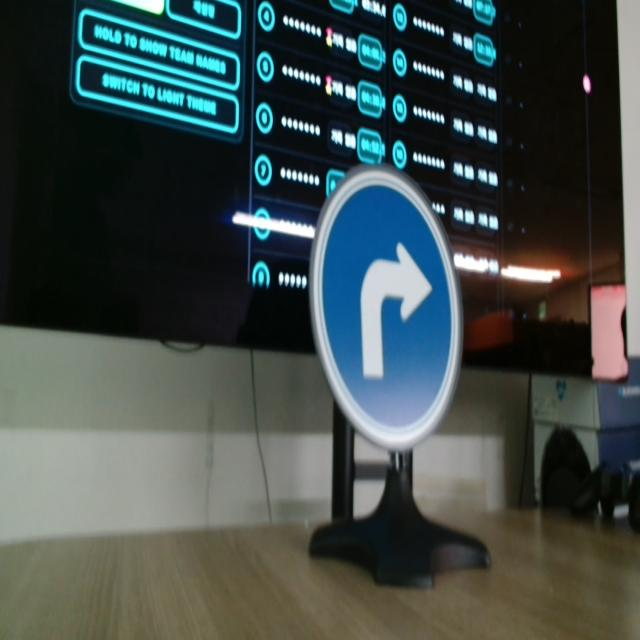right_dierection: (307, 165, 465, 448)
